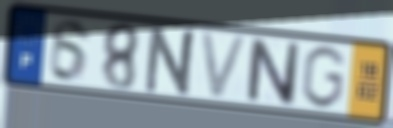6: (47, 18, 93, 84)
8: (99, 22, 142, 92)
G: (298, 44, 349, 111)
N: (141, 25, 202, 100), (245, 35, 301, 108)
V: (197, 29, 251, 102)
